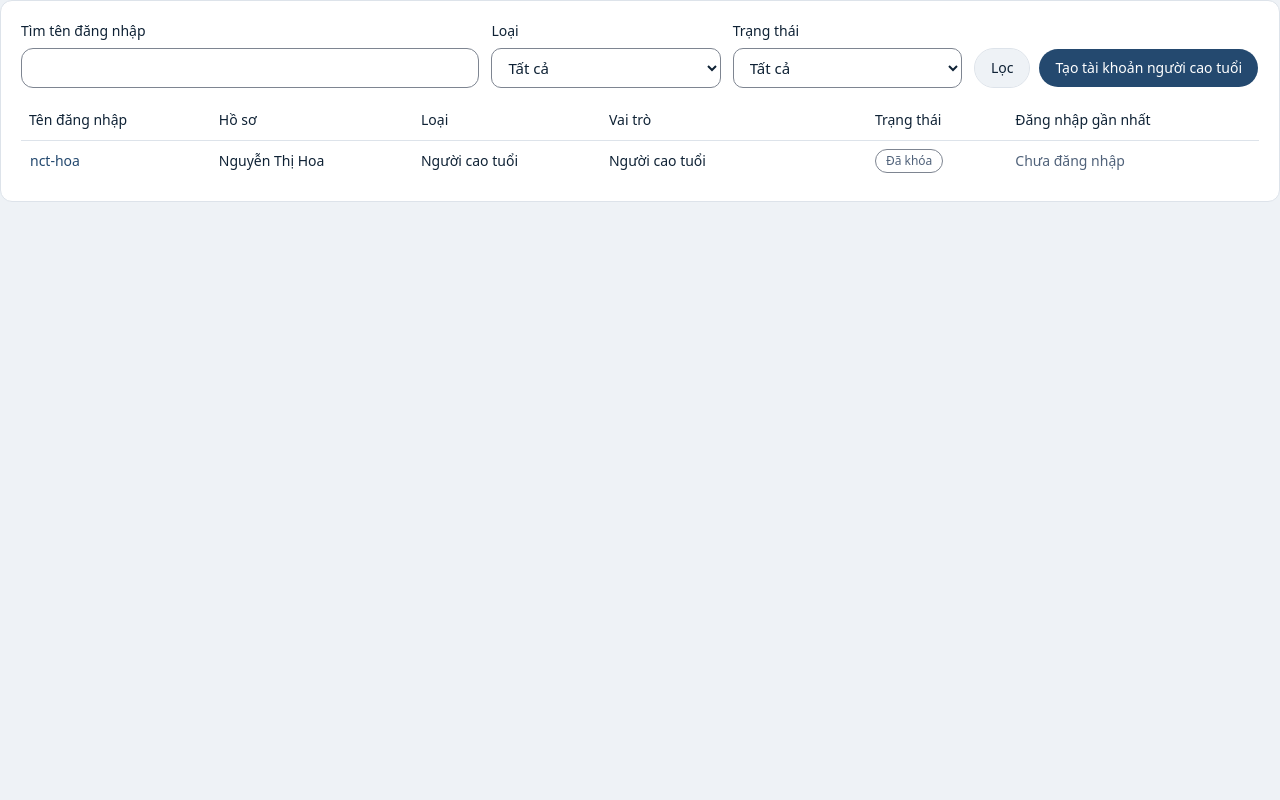
Test case: Tài khoản người cao tuổi › FR_073_moKhoa_xacNhanNguoiCaoTuoi_khoaDoKetThucLuuTru_baoLyDo
Click the button "nct-hoa".
click(55, 161)  # box top-left (29, 150), bottom-right (81, 172)
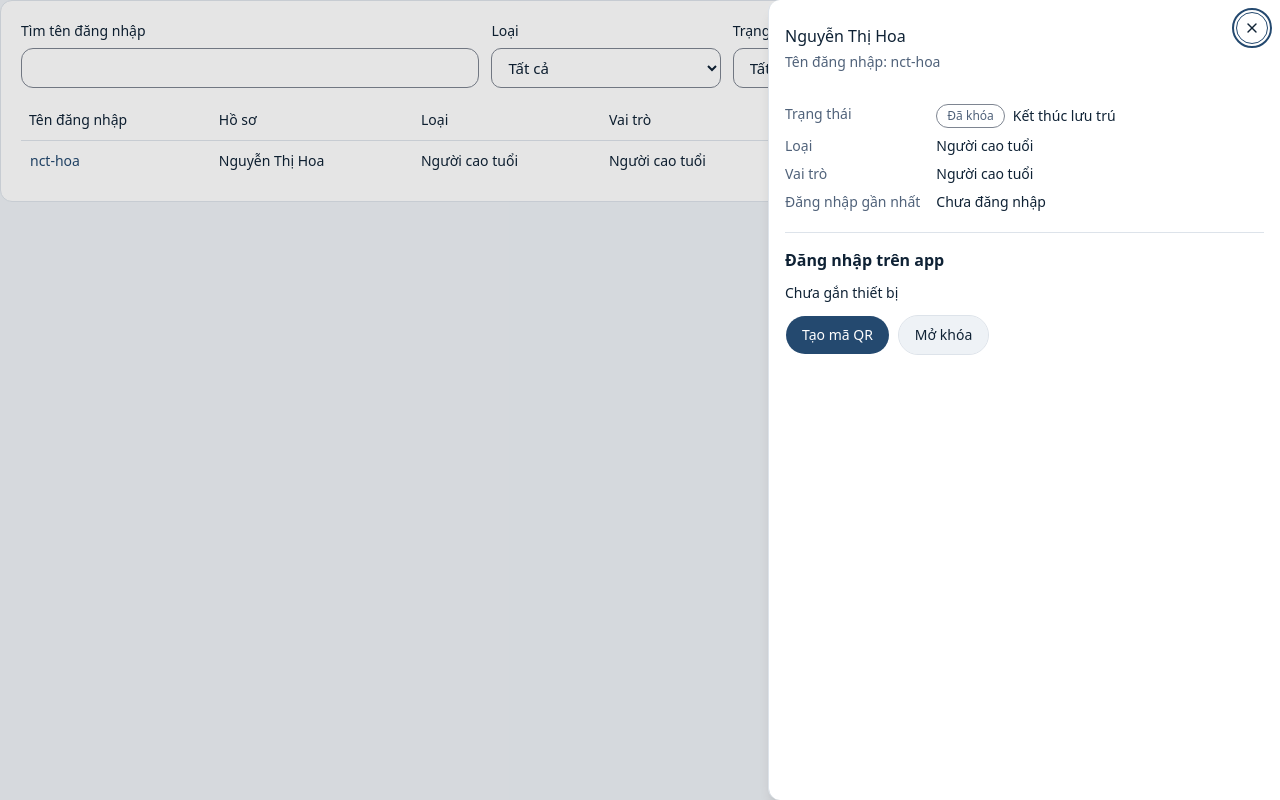
Result: the text "Kết thúc lưu trú" is shown at top-left (1013, 106), bottom-right (1116, 126)
Result: the text "Chưa gắn thiết bị" is shown at top-left (785, 283), bottom-right (898, 302)
Click the button "Mở khóa".
click(944, 335)  # box top-left (898, 315), bottom-right (989, 355)
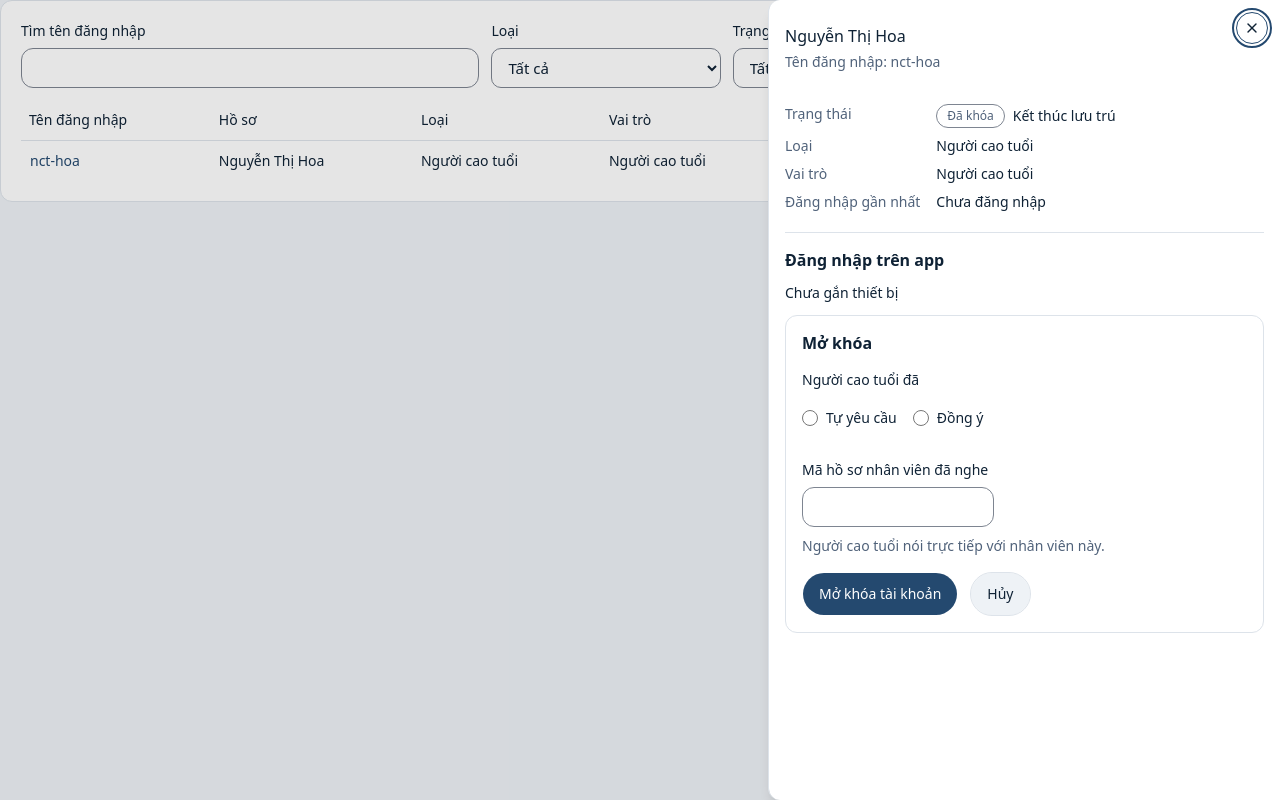
Click the radio button labelled "Đồng ý".
click(921, 418)  # box top-left (913, 410), bottom-right (929, 426)
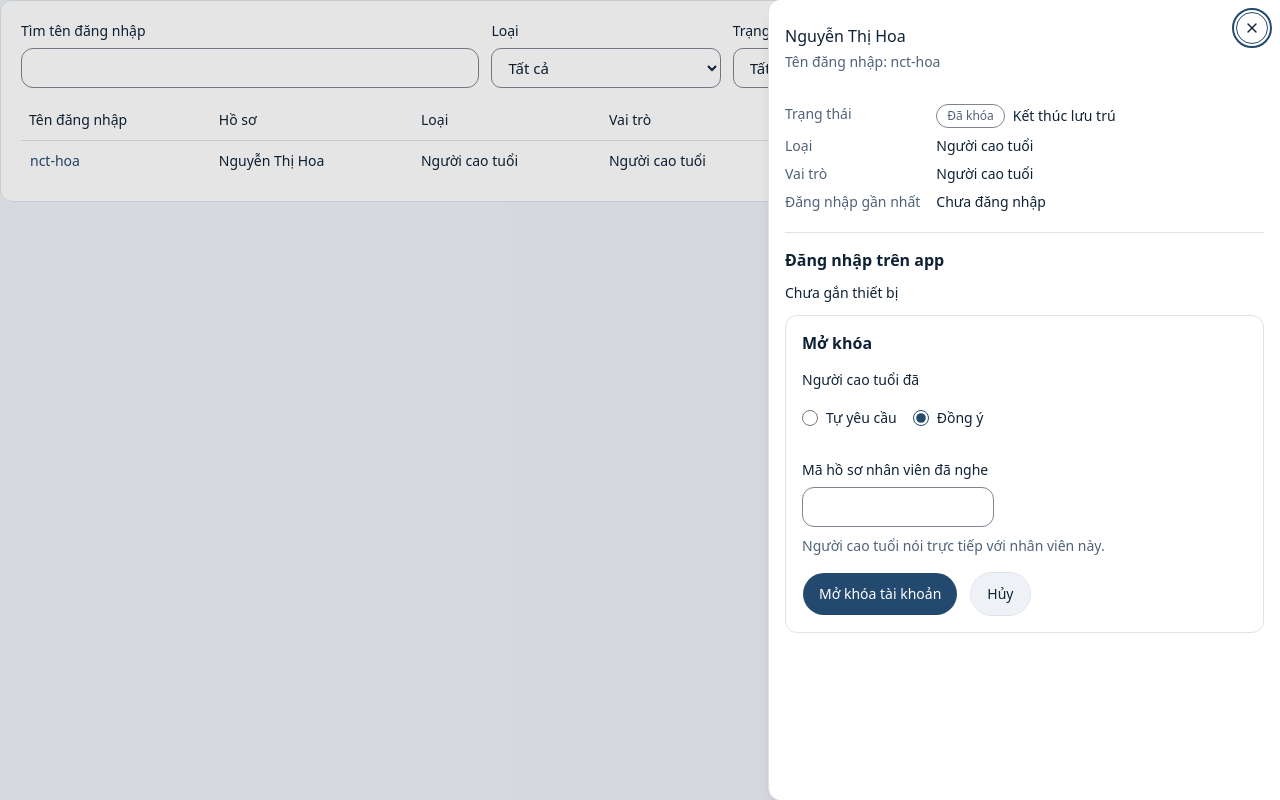
Type "7" into the field labelled "Mã hồ sơ nhân viên đã nghe".
click(898, 507); type("7")  # box top-left (802, 487), bottom-right (994, 527)
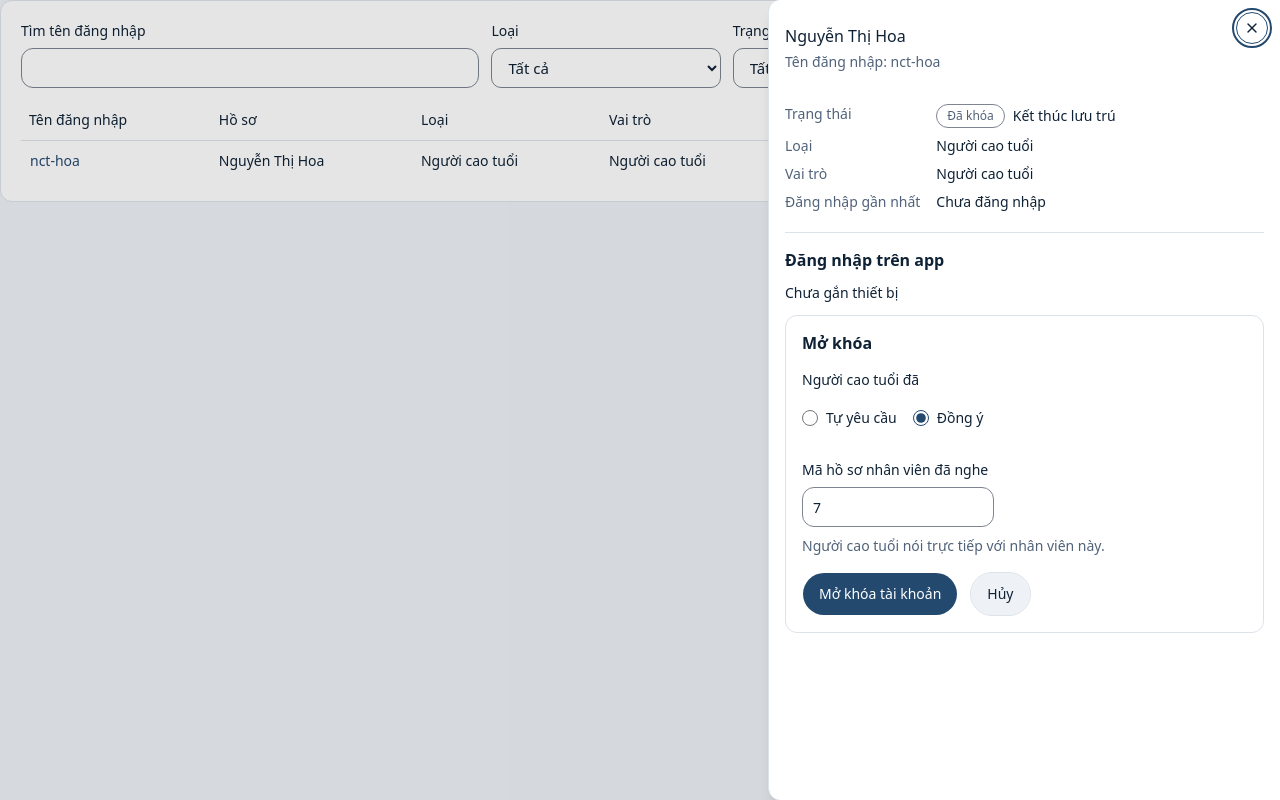
Click the button "Mở khóa tài khoản".
click(880, 594)  # box top-left (802, 572), bottom-right (958, 616)
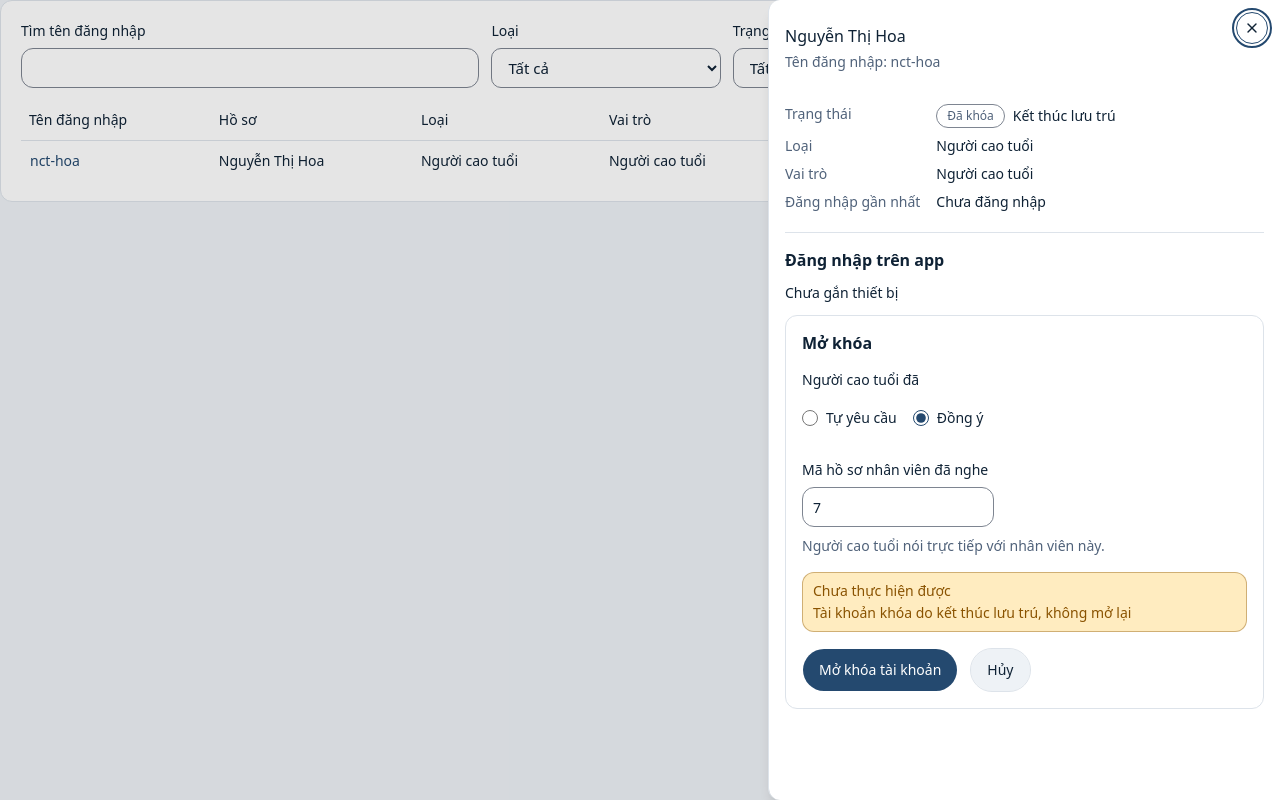
Result: the text "Tài khoản khóa do kết thúc lưu trú, không mở lại" is shown at top-left (813, 603), bottom-right (1131, 622)
